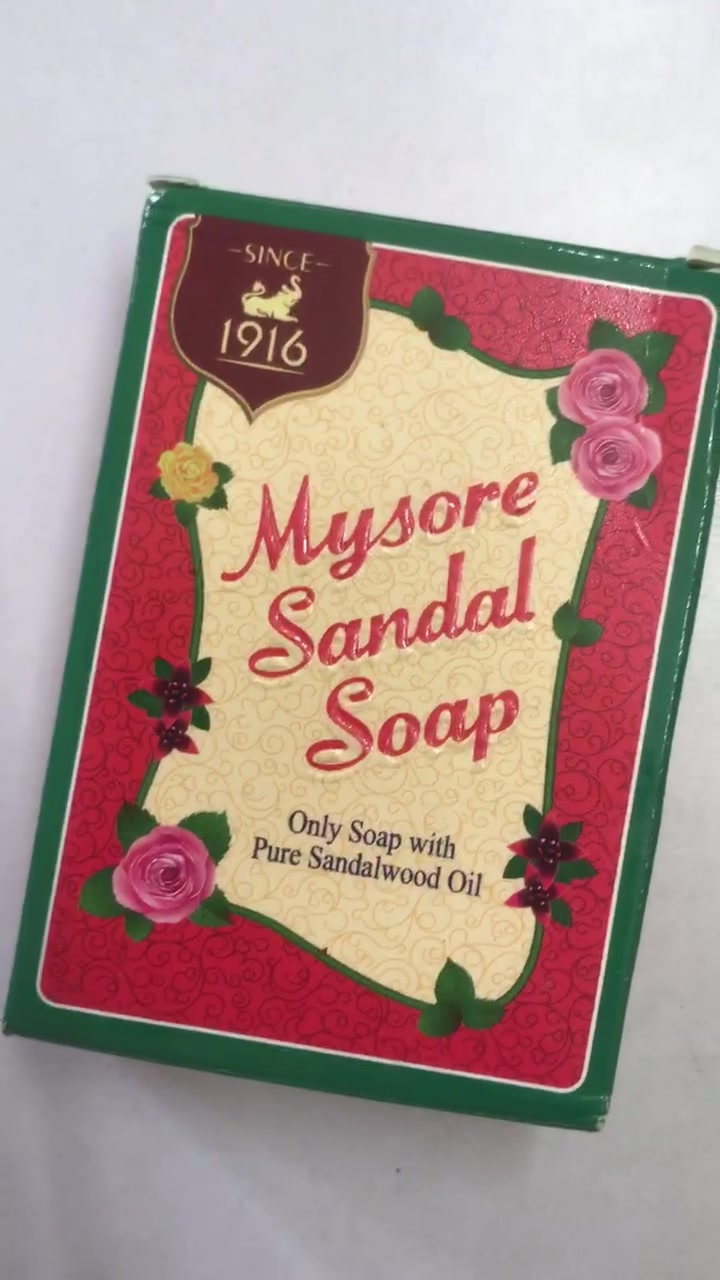mysore sandal soap: (9, 171, 720, 1131)
